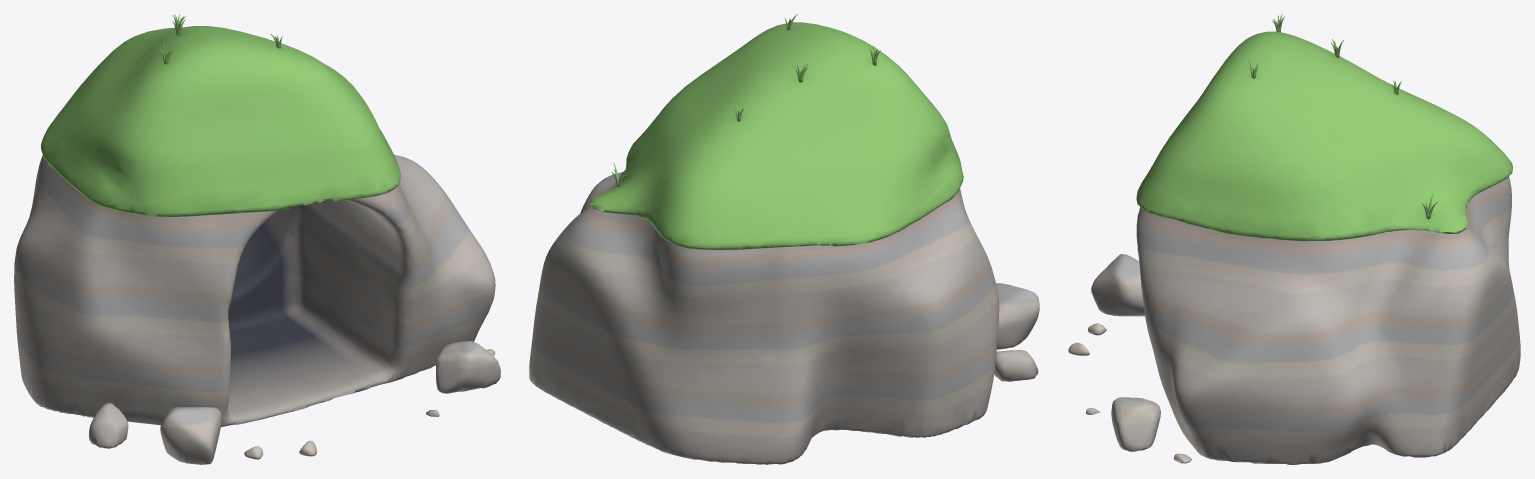
File: cave-entrance.glb
3 renders of one model, left to right at view 1: azimuth 30°, elevation 25°; view 2: azimuth 150°, elevation 25°; view 3: azimuth 270°, elevation 25°, orthographic. The views are drawn at different scales.
Parts seen in each view (by area): view 1: cave-entrance_body; view 2: cave-entrance_body; view 3: cave-entrance_body.
Boxes of the visible parts, bbox=[...] form: cave-entrance_body: bbox=[14, 14, 500, 464]; cave-entrance_body: bbox=[529, 14, 1039, 464]; cave-entrance_body: bbox=[1068, 14, 1520, 464].
Size of the model in its own units: 5.05 by 3.96 by 5.08.
Materials: 1 (1 with a texture image).
